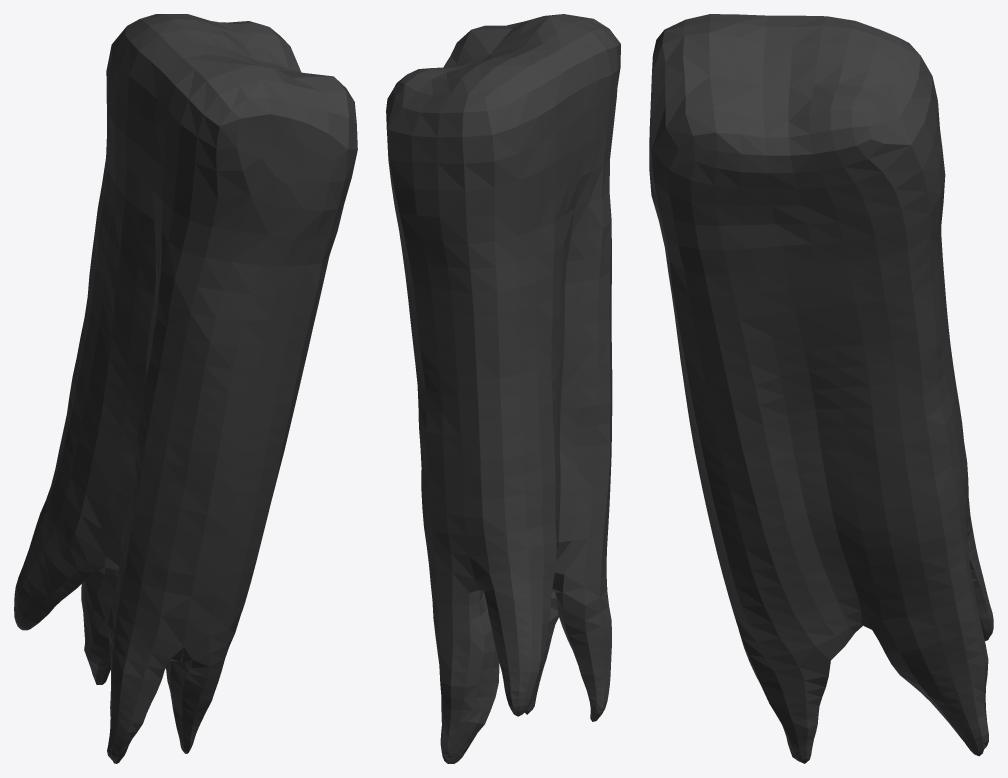
The model's file is L_mand_P4.glb.
3 renders of one model, left to right at view 1: azimuth 30°, elevation 25°; view 2: azimuth 150°, elevation 25°; view 3: azimuth 270°, elevation 25°, orthographic. The views are drawn at different scales.
Visible parts, largest first — view 1: L_mand_P4; view 2: L_mand_P4; view 3: L_mand_P4.
Part boxes in pixels (<box>): L_mand_P4: <box>14,14,357,763</box>; L_mand_P4: <box>386,14,620,763</box>; L_mand_P4: <box>649,14,993,763</box>.
Bounding box in the file's own units: 0.1108 × 0.3573 × 0.1503.
1 material, 1 textured.
